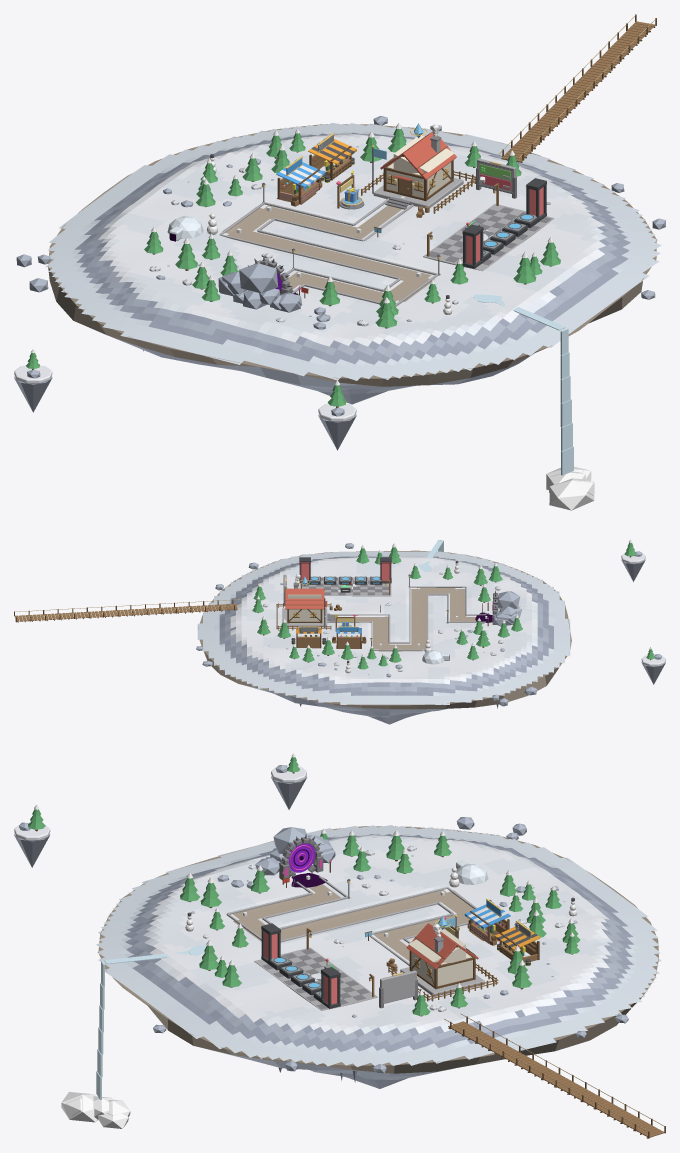
Rendered from Isla3_Nieve.glb.
The picture shows the model from 3 angles, top to bottom: view 1: azimuth 30°, elevation 25°; view 2: azimuth 150°, elevation 25°; view 3: azimuth 270°, elevation 25°; orthographic projection. The views are drawn at different scales.
Visible parts, largest first — view 1: Isla3_Nieve_Terreno, Isla3_Nieve_Base_Flotante, Isla3_Nieve_Arboles, Isla3_Nieve_Detalles, Isla3_Nieve_Casa, Isla3_Nieve_Palanca_Zona, Puente_3, Isla3_Nieve_Bordes, Isla3_Nieve_Portal, Isla3_Nieve_Rocas, Isla3_Nieve_Tienda_Puesto, Isla3_Nieve_Equipamientos_Puesto (+1 smaller); view 2: Isla3_Nieve_Terreno, Isla3_Nieve_Base_Flotante, Isla3_Nieve_Arboles, Isla3_Nieve_Casa, Puente_3, Isla3_Nieve_Palanca_Zona, Isla3_Nieve_Detalles, Isla3_Nieve_Bordes, Isla3_Nieve_Portal, Isla3_Nieve_Rocas, Isla3_Nieve_Equipamientos_Puesto, Isla3_Nieve_Tienda_Puesto (+1 smaller); view 3: Isla3_Nieve_Terreno, Isla3_Nieve_Arboles, Isla3_Nieve_Base_Flotante, Isla3_Nieve_Detalles, Isla3_Nieve_Casa, Isla3_Nieve_Palanca_Zona, Puente_3, Isla3_Nieve_Portal, Isla3_Nieve_Bordes, Isla3_Nieve_Rocas, Isla3_Nieve_Tienda_Puesto, Isla3_Nieve_Equipamientos_Puesto (+2 smaller).
Part boxes in pixels (<box>): Isla3_Nieve_Terreno: <box>45,123,661,380</box>; Isla3_Nieve_Base_Flotante: <box>48,124,656,404</box>; Isla3_Nieve_Arboles: <box>144,123,560,328</box>; Isla3_Nieve_Detalles: <box>14,154,594,510</box>; Isla3_Nieve_Casa: <box>361,123,475,213</box>; Isla3_Nieve_Palanca_Zona: <box>423,178,554,271</box>; Puente_3: <box>498,14,656,162</box>; Isla3_Nieve_Bordes: <box>219,183,440,306</box>; Isla3_Nieve_Portal: <box>218,256,302,312</box>; Isla3_Nieve_Rocas: <box>16,116,665,329</box>; Isla3_Nieve_Tienda_Puesto: <box>276,156,325,206</box>; Isla3_Nieve_Equipamientos_Puesto: <box>308,133,356,182</box>; Isla3_Nieve_Terreno: <box>197,551,570,704</box>; Isla3_Nieve_Base_Flotante: <box>198,550,571,724</box>; Isla3_Nieve_Arboles: <box>252,543,522,669</box>; Isla3_Nieve_Casa: <box>276,574,334,630</box>; Puente_3: <box>14,599,241,622</box>; Isla3_Nieve_Palanca_Zona: <box>299,557,391,596</box>; Isla3_Nieve_Detalles: <box>329,539,665,684</box>; Isla3_Nieve_Bordes: <box>327,574,486,650</box>; Isla3_Nieve_Portal: <box>475,590,521,626</box>; Isla3_Nieve_Rocas: <box>196,543,537,706</box>; Isla3_Nieve_Equipamientos_Puesto: <box>291,626,325,648</box>; Isla3_Nieve_Tienda_Puesto: <box>332,626,366,648</box>; Isla3_Nieve_Terreno: <box>96,825,661,1066</box>; Isla3_Nieve_Arboles: <box>180,828,580,1016</box>; Isla3_Nieve_Base_Flotante: <box>98,826,658,1088</box>; Isla3_Nieve_Detalles: <box>14,753,577,1128</box>; Isla3_Nieve_Casa: <box>388,915,498,1001</box>; Isla3_Nieve_Palanca_Zona: <box>254,923,377,1010</box>; Puente_3: <box>444,1013,665,1138</box>; Isla3_Nieve_Portal: <box>255,827,335,887</box>; Isla3_Nieve_Bordes: <box>226,876,491,965</box>; Isla3_Nieve_Rocas: <box>153,817,628,1073</box>; Isla3_Nieve_Tienda_Puesto: <box>464,899,510,945</box>; Isla3_Nieve_Equipamientos_Puesto: <box>494,920,540,966</box>.
Bounding box in the file's own units: 167 × 44.98 × 120.
Materials: 1 (1 with a texture image).
